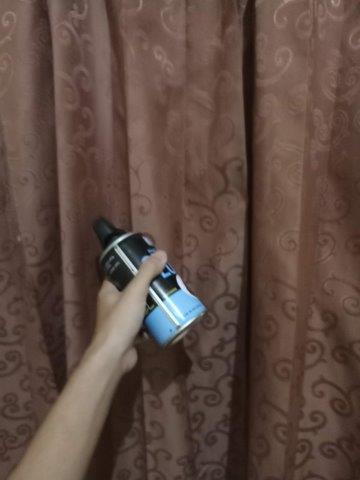kaleng: (99, 232, 207, 348)
